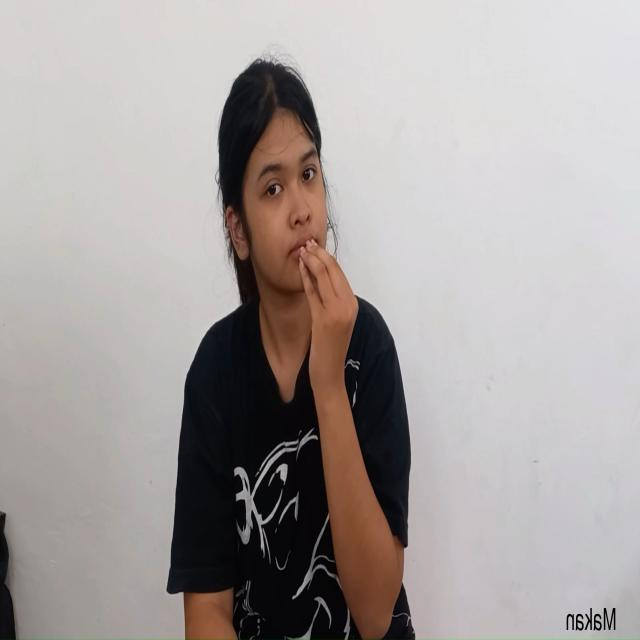Makan -BISINDO-: (225, 65, 359, 394)
